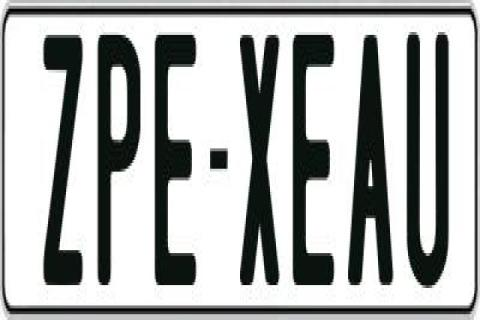A: (344, 29, 390, 294)
E: (290, 32, 331, 296), (155, 29, 197, 282)
P: (94, 26, 144, 294)
U: (404, 26, 450, 294)
X: (238, 32, 282, 285)
Z: (40, 32, 82, 288)
